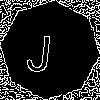J: (25, 25, 55, 73)
